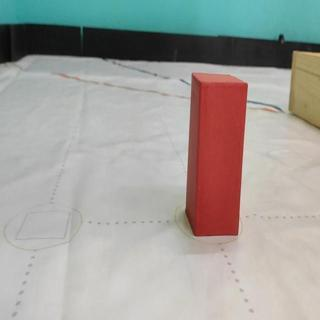redbox: (185, 71, 249, 236)
